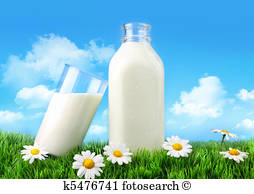glass of milk: (105, 42, 173, 153), (33, 63, 100, 156)
